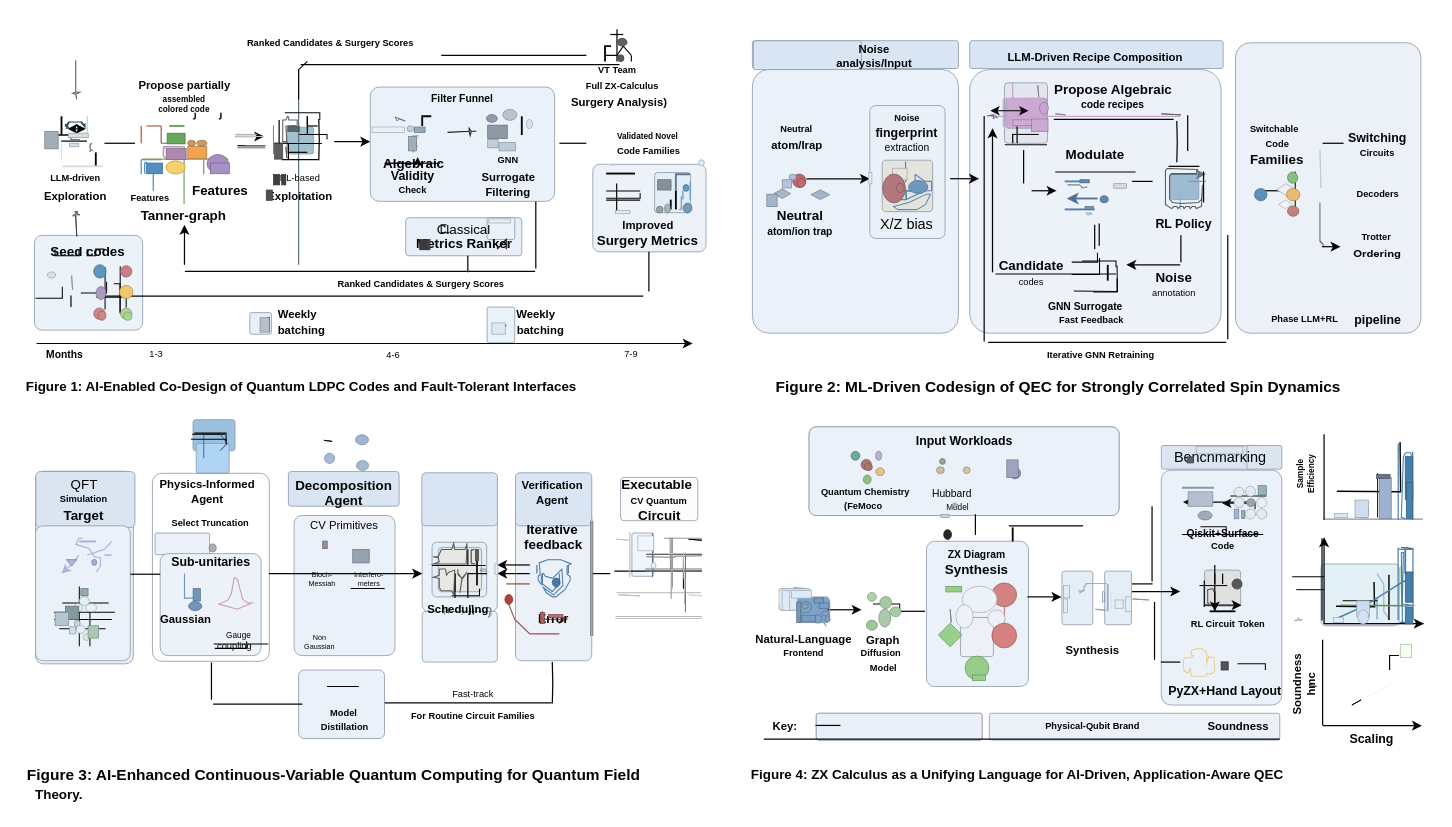
This 1452x827 diagram has some shape labels left out. Each missing label, with the centre of its shape:
"Hardware Agent" belongs at point (459, 499).
"Input Metrics" belongs at point (898, 726).
